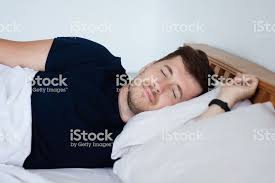white_male: (130, 52, 202, 113)
